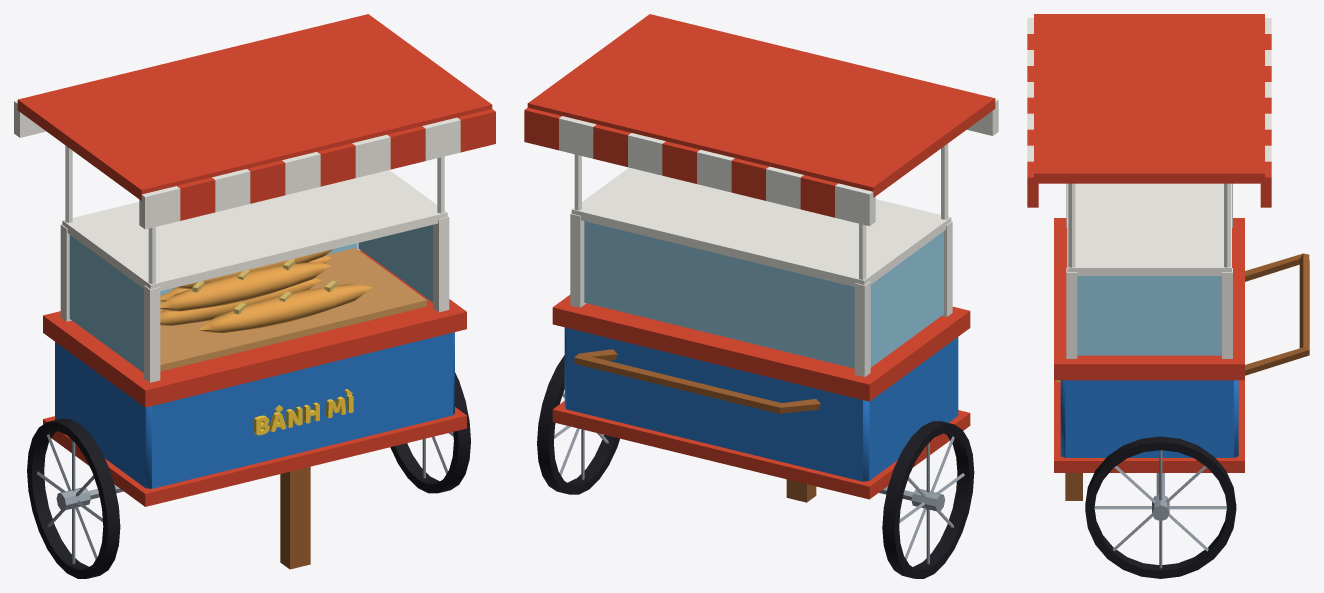
File: banh_mi_cart.glb
3 renders of one model, left to right at view 1: azimuth 30°, elevation 25°; view 2: azimuth 150°, elevation 25°; view 3: azimuth 270°, elevation 25°, orthographic. The views are drawn at different scales.
Parts seen in each view (by area): view 1: banh_mi_cart; view 2: banh_mi_cart; view 3: banh_mi_cart.
Boxes of the visible parts, x1,y1,x2,y2 form: banh_mi_cart: (14, 14, 495, 578); banh_mi_cart: (524, 14, 998, 578); banh_mi_cart: (1027, 14, 1309, 578).
Size of the model in its own units: 1.82 by 2 by 1.27.
